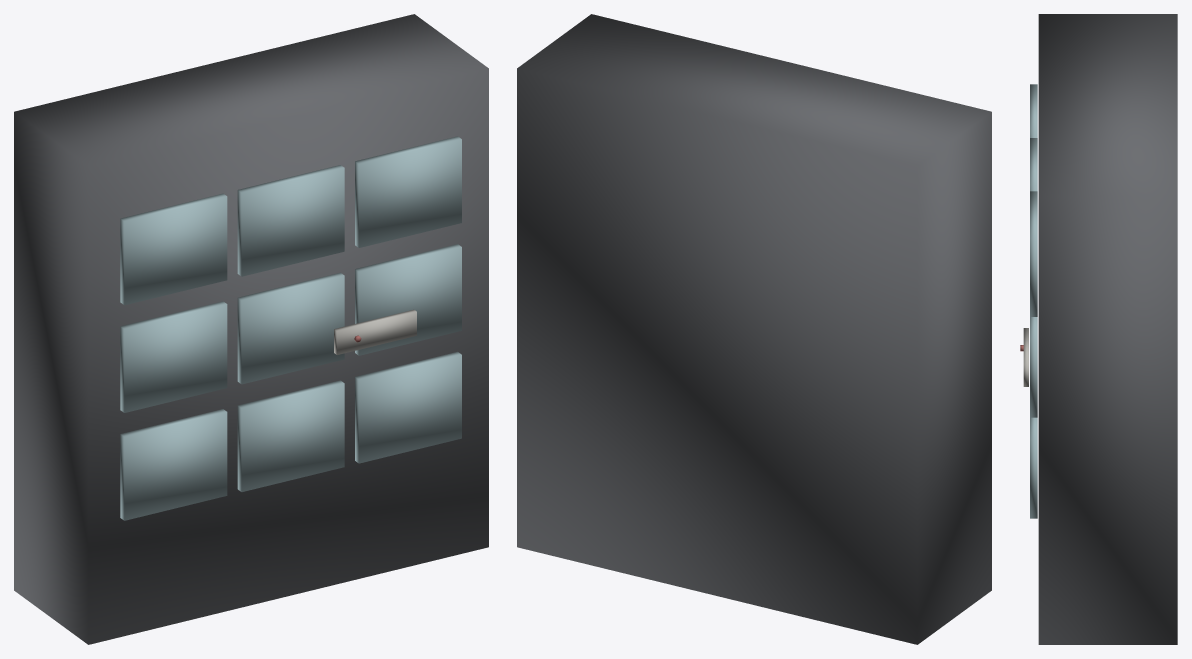
File: security_monitor_bank.glb
The picture shows the model from 3 angles, left to right: view 1: azimuth 30°, elevation 25°; view 2: azimuth 150°, elevation 25°; view 3: azimuth 270°, elevation 25°; orthographic projection. The views are drawn at different scales.
Visible parts, largest first — view 1: world; view 2: world; view 3: world.
Part boxes in pixels (x1,y1,x2,y2): world: (14,14,488,644); world: (517,14,991,644); world: (1020,14,1177,644).
Size of the model in its own units: 1.4 by 1.6 by 0.5085.
